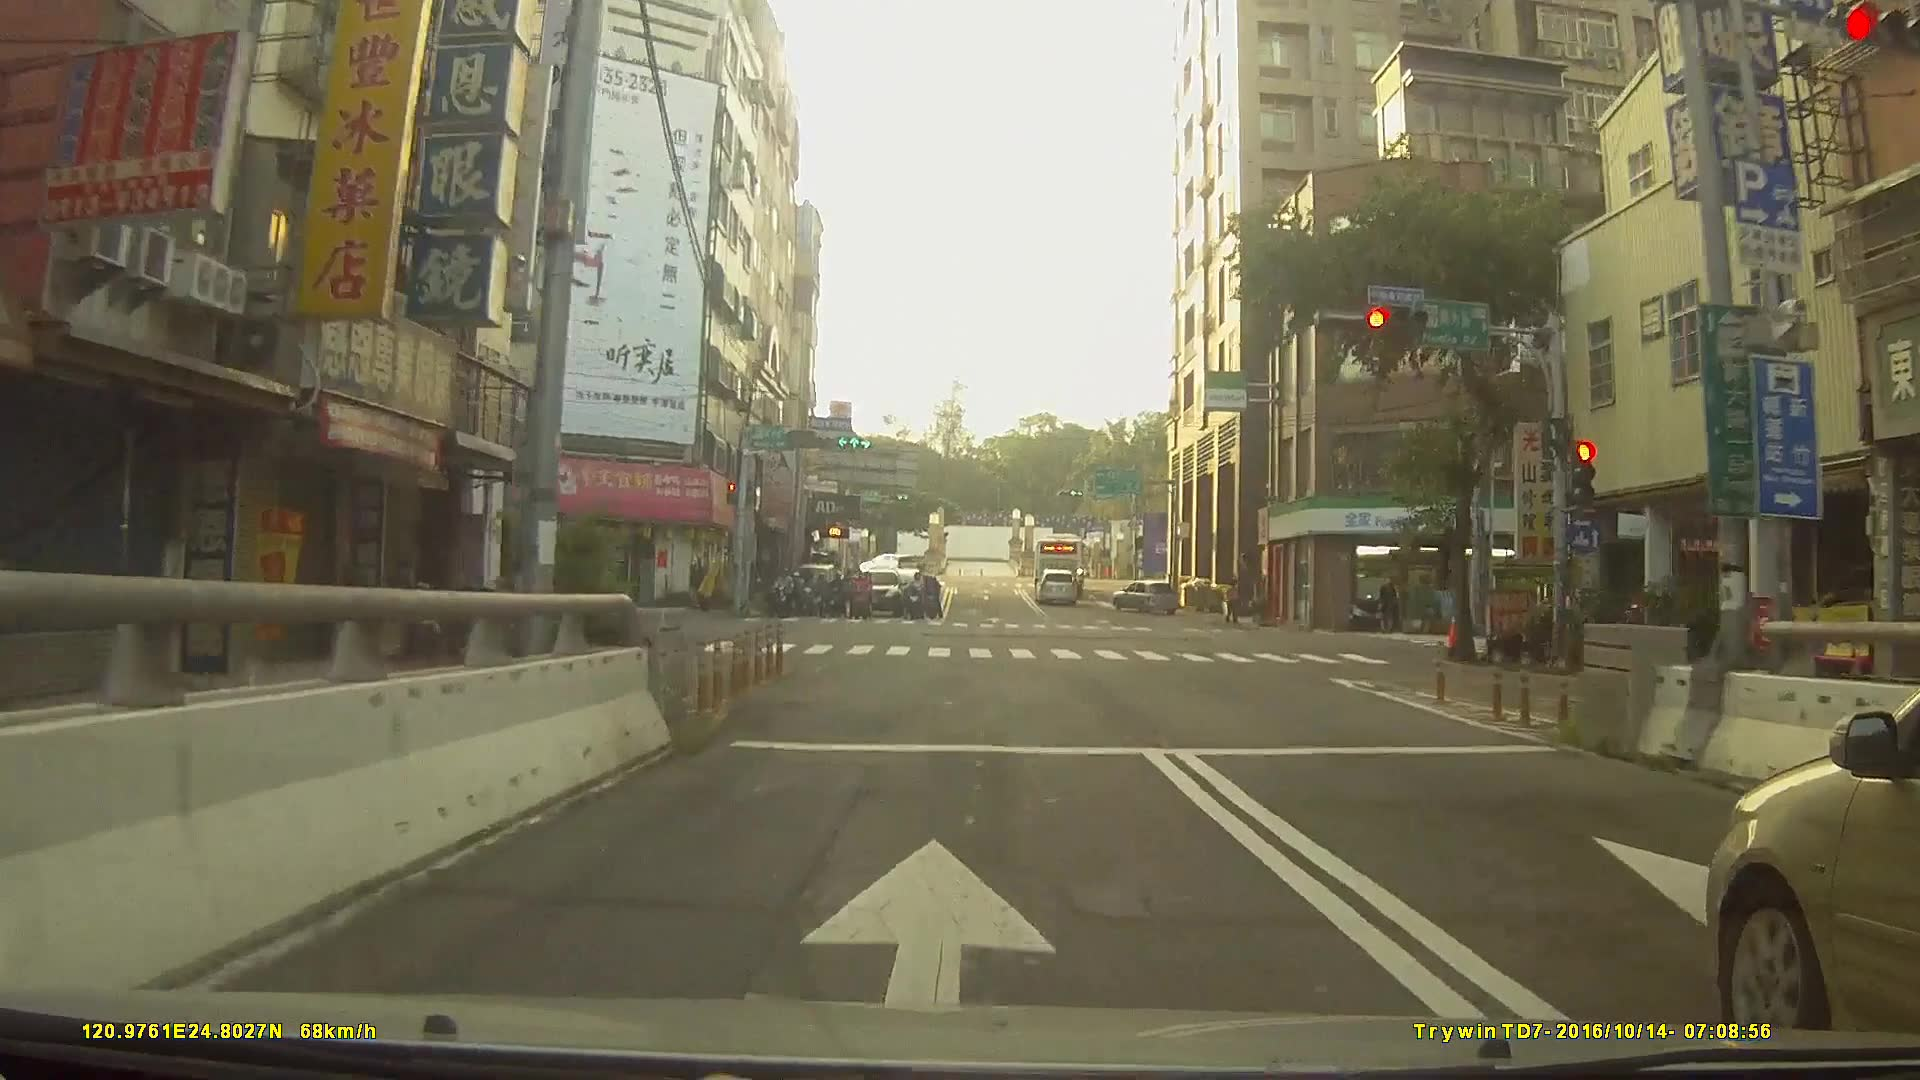pedestrian: (1377, 582, 1403, 638), (1222, 582, 1242, 627)
rider: (771, 569, 798, 621), (826, 577, 850, 625), (850, 572, 874, 619), (906, 577, 927, 627), (800, 575, 822, 620), (922, 581, 942, 628)
vehicle: (1706, 683, 1920, 1044), (1030, 538, 1089, 589), (851, 574, 905, 627), (1110, 579, 1180, 616), (860, 551, 925, 581), (1034, 573, 1080, 607)
